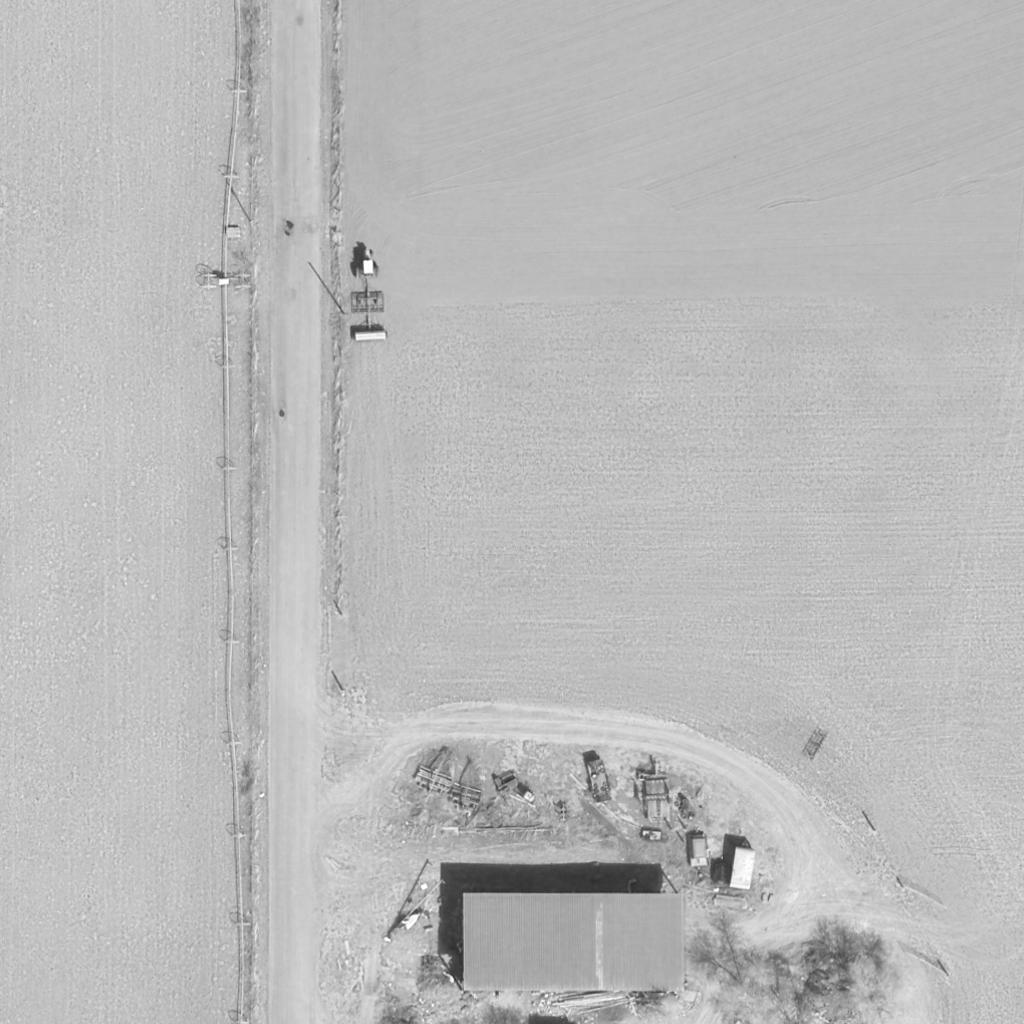vehicle: (353, 247, 383, 283)
